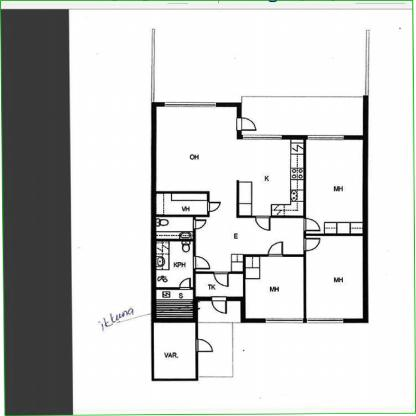door: (211, 296, 230, 315), (254, 214, 272, 231), (236, 117, 256, 131), (213, 272, 229, 288), (302, 218, 321, 231), (192, 255, 209, 268), (196, 339, 212, 352), (302, 239, 320, 250), (269, 241, 283, 255), (207, 202, 220, 212), (180, 276, 190, 288), (192, 218, 204, 228)
window: (164, 101, 215, 107), (307, 134, 342, 142), (242, 133, 282, 140), (265, 317, 301, 323), (305, 317, 341, 323)
zone: (156, 106, 302, 269), (154, 29, 364, 103), (306, 140, 362, 232), (241, 96, 365, 134), (306, 236, 364, 317), (245, 255, 306, 318), (153, 324, 198, 378), (196, 323, 232, 378), (156, 242, 194, 286), (194, 272, 244, 296), (156, 290, 194, 319), (155, 193, 207, 212), (198, 302, 240, 321), (156, 215, 192, 236)
